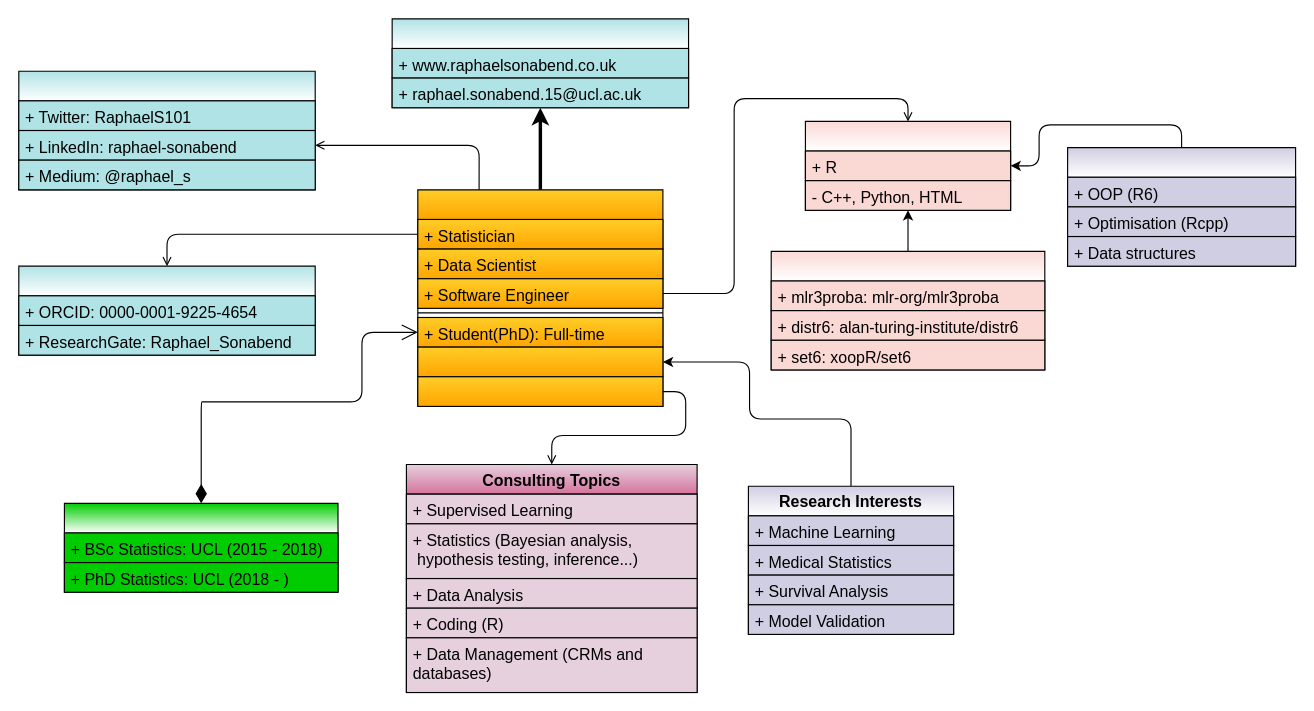
The diagram is 1314 pixels wide and 711 high, and some of its shapes have lost their labels. The shapes that lost their labels are listed below. From the top down, each one's box as (x1, y1, x2, y2) in pixels, then its label:
(391, 18, 689, 108): Contact
(18, 70, 315, 190): Social Media
(804, 120, 1011, 210): Coding
(1066, 146, 1296, 266): R Research Interests
(18, 265, 315, 355): Academic Profiles
(417, 189, 663, 406): Raphael Sonabend
(770, 250, 1045, 370): Highlighted Packages
(417, 346, 663, 377): + Academic(UCL): Full-time
(417, 376, 663, 406): + Consultant(Self): Freelance
(63, 502, 338, 592): Education
